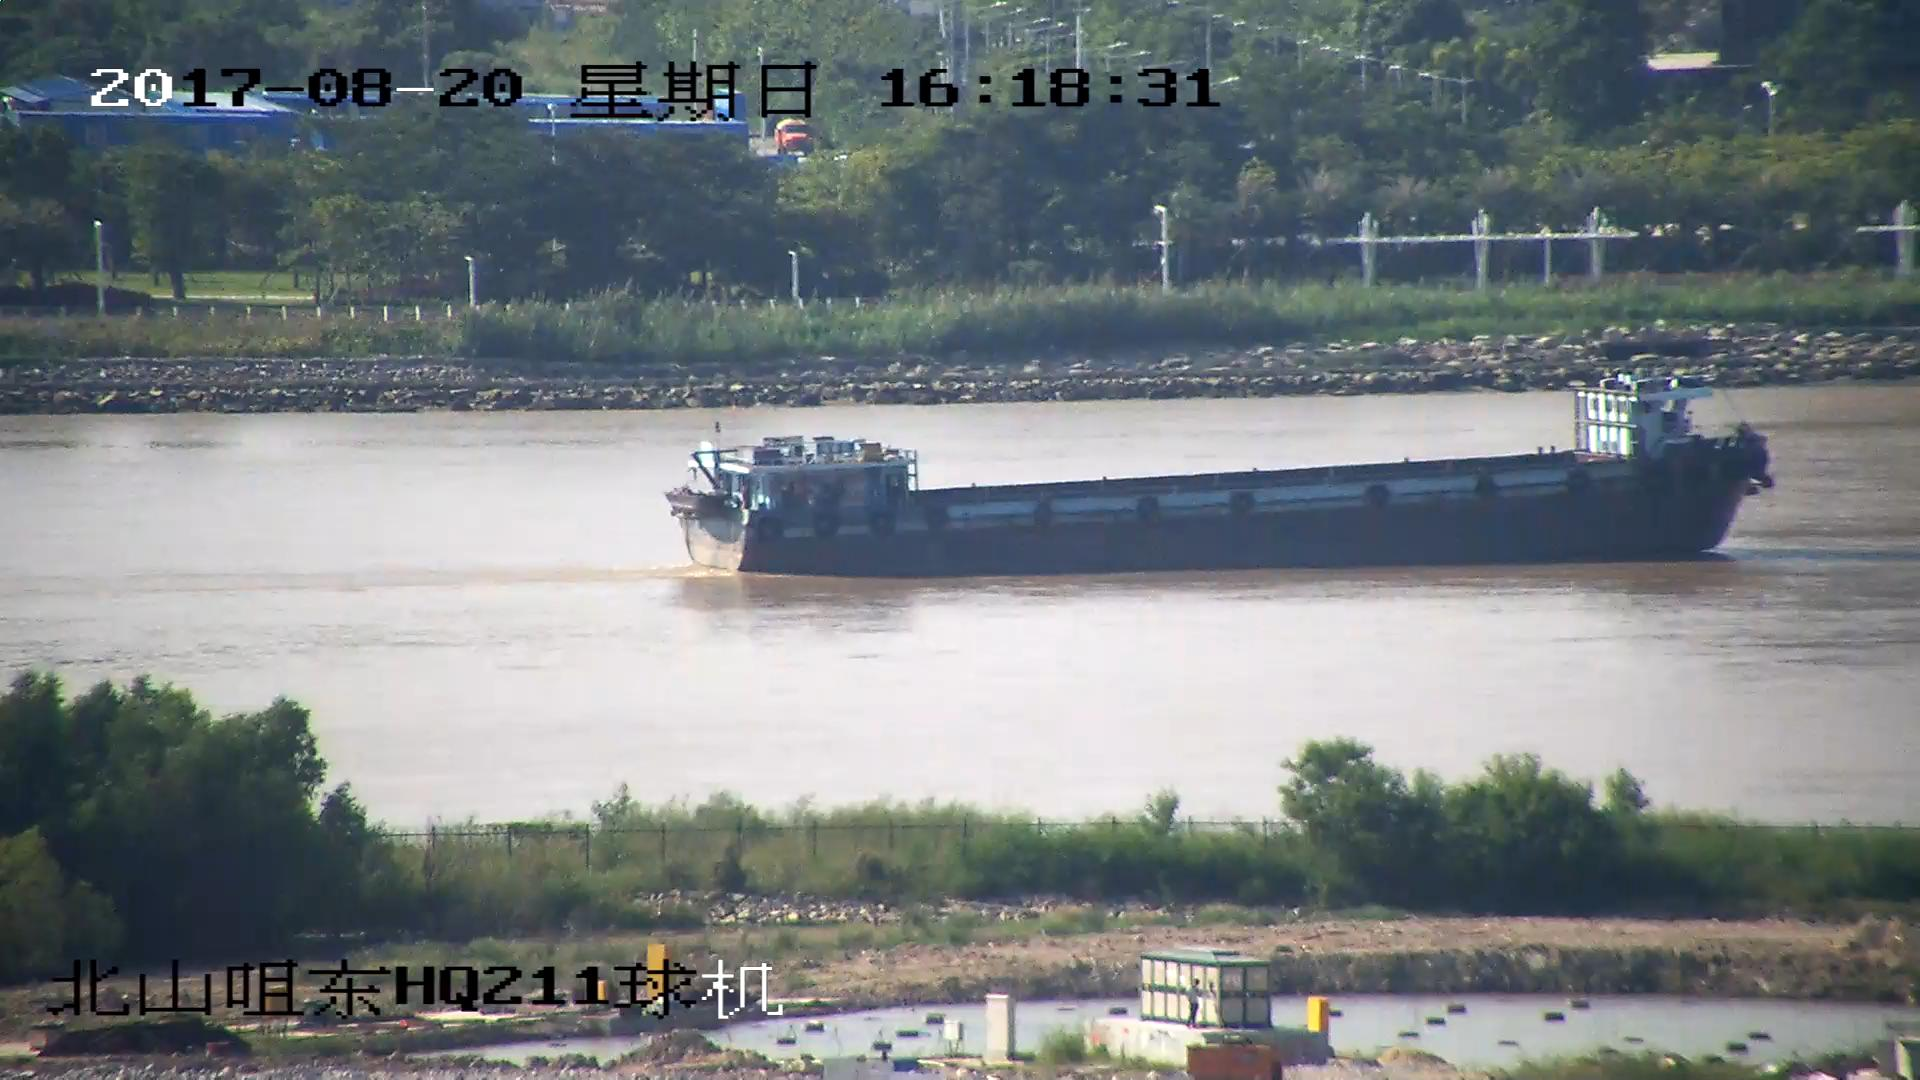general cargo ship: (667, 372, 1775, 568)
